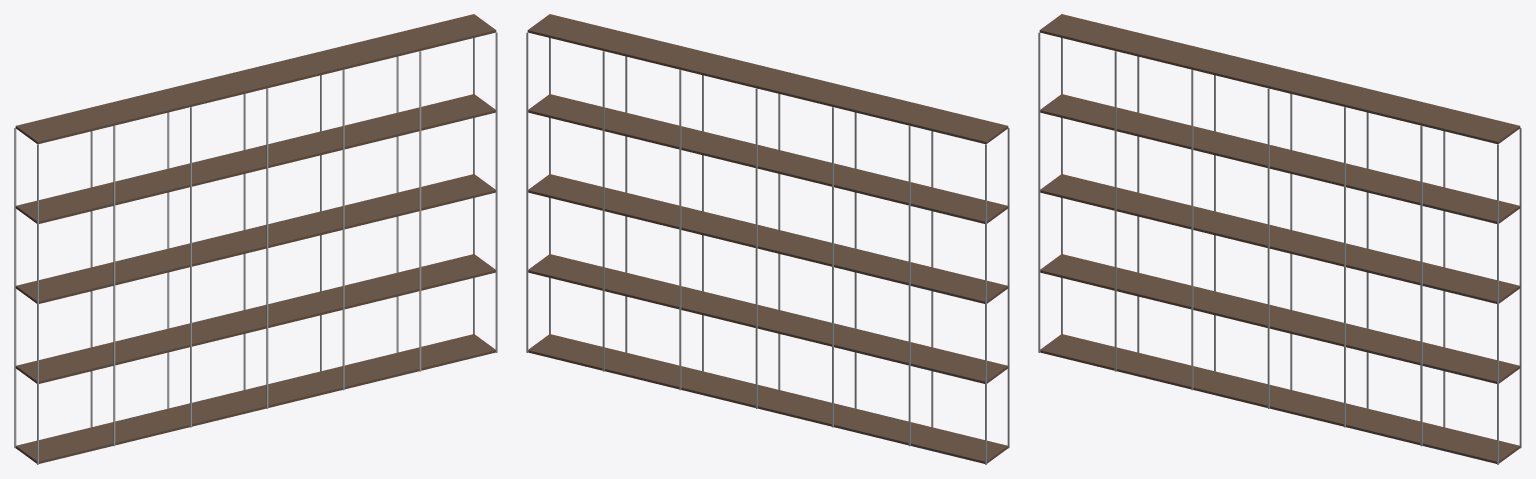
The picture shows the model from 3 angles, left to right: view 1: azimuth 30°, elevation 25°; view 2: azimuth 150°, elevation 25°; view 3: azimuth 330°, elevation 25°; orthographic projection.
Parts seen in each view (by area): view 1: 货架, 货架.001; view 2: 货架, 货架.001; view 3: 货架, 货架.001.
Part boxes in pixels (bbox=[...]): 货架: bbox=[14, 32, 497, 464]; 货架.001: bbox=[15, 14, 496, 144]; 货架: bbox=[526, 32, 1009, 464]; 货架.001: bbox=[527, 14, 1008, 144]; 货架: bbox=[1038, 32, 1521, 464]; 货架.001: bbox=[1039, 14, 1520, 144].
Bounding box in the file's own units: 602 × 403 × 52.79.
